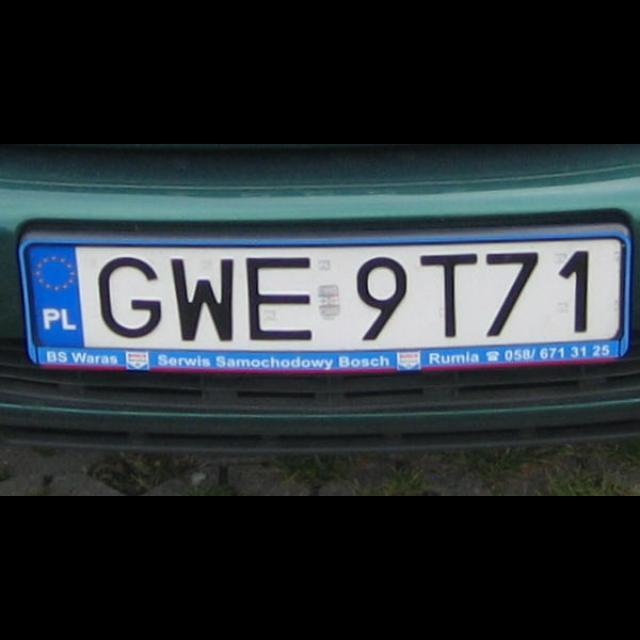license-plates: (20, 224, 633, 373)
